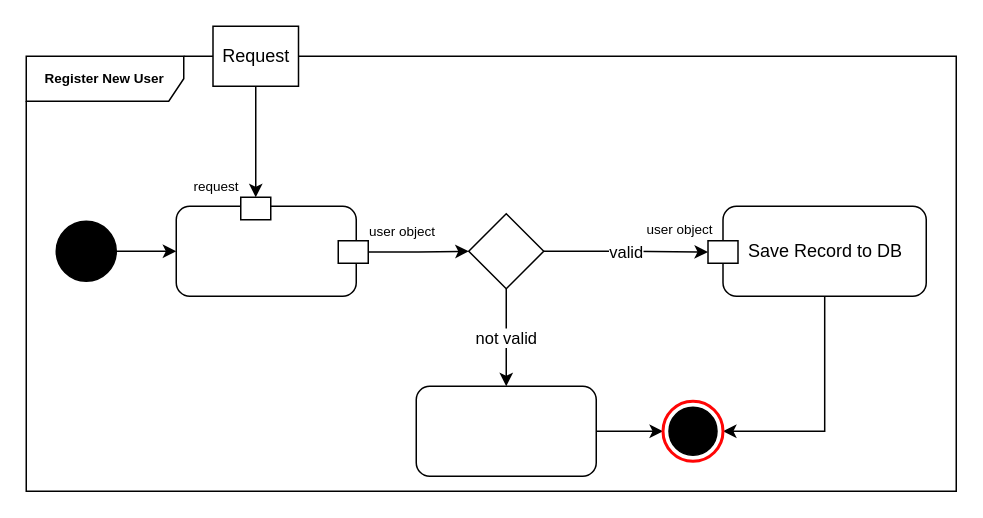
Some shapes in this 983 by 518 pixel diagram are drawn without their labels. The shapes that lost their labels are listed below. From the top down, each one's box as (x1, y1, x2, y2) in pixels, then its label:
(175, 205, 356, 296): Validation
(415, 385, 596, 476): Show Error
